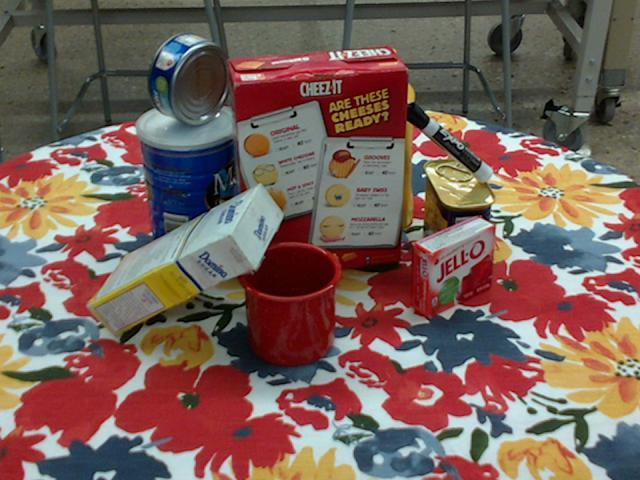cracker_box: (226, 48, 409, 280)
gelatin_box: (410, 215, 496, 318)
large_marker: (401, 102, 492, 182)
master_chef_can: (137, 102, 243, 266)
mug: (236, 240, 342, 366)
mustard_bottle: (359, 48, 414, 230)
potted_meat_can: (422, 158, 495, 274)
sugar_box: (84, 184, 283, 338)
tomato_soup_can: (276, 107, 337, 212)
tuna_fish_can: (147, 33, 230, 125)
